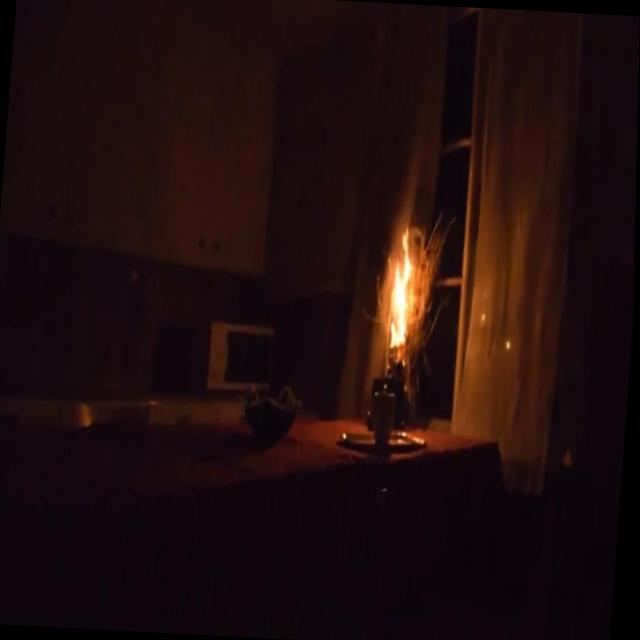fire: (372, 217, 424, 365)
